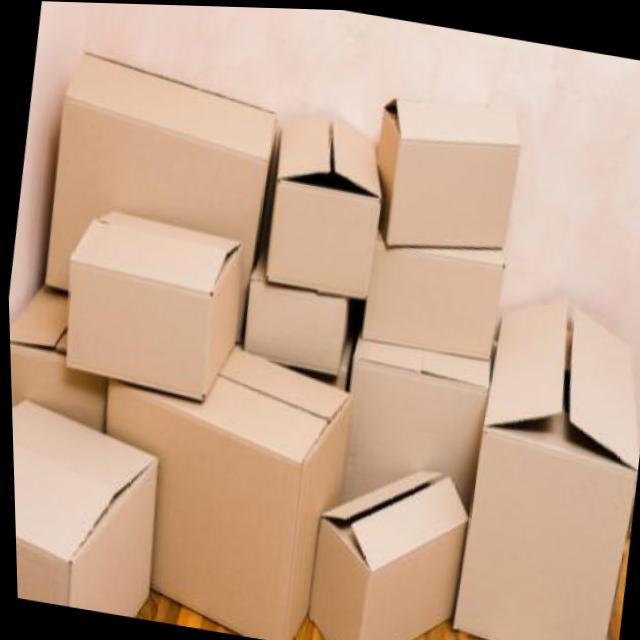box: (71, 326, 348, 640), (434, 273, 640, 640), (35, 53, 288, 308), (9, 383, 180, 621), (44, 202, 248, 400), (296, 449, 472, 640), (367, 74, 536, 272), (330, 335, 497, 509), (256, 97, 394, 302), (353, 226, 510, 366), (6, 275, 114, 424), (228, 267, 355, 383)
